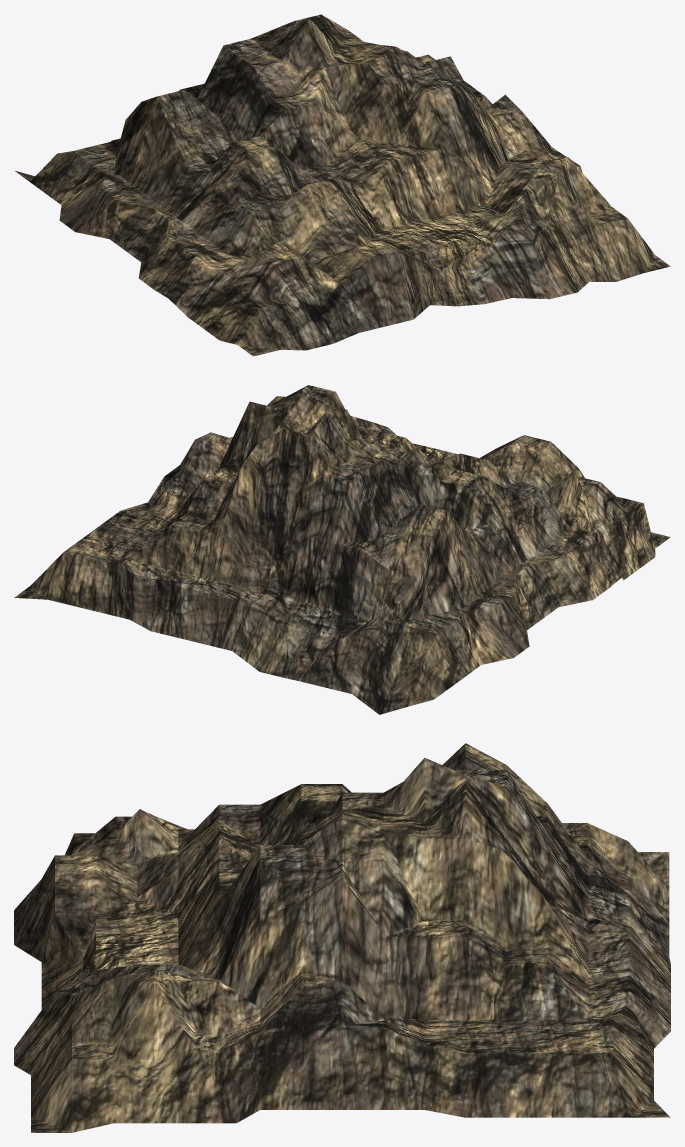
The model's file is mountain.fbx.
3 renders of one model, top to bottom at view 1: azimuth 30°, elevation 25°; view 2: azimuth 150°, elevation 25°; view 3: azimuth 270°, elevation 25°, orthographic. The views are drawn at different scales.
Visible parts, largest first — view 1: pPlane1; view 2: pPlane1; view 3: pPlane1.
Boxes of the visible parts, x1,y1,x2,y2 form: pPlane1: [15, 14, 670, 356]; pPlane1: [14, 385, 670, 714]; pPlane1: [14, 743, 670, 1132].
Size of the model in its own units: 23.97 by 10.45 by 24.02.
Materials: 1 (1 with a texture image).
